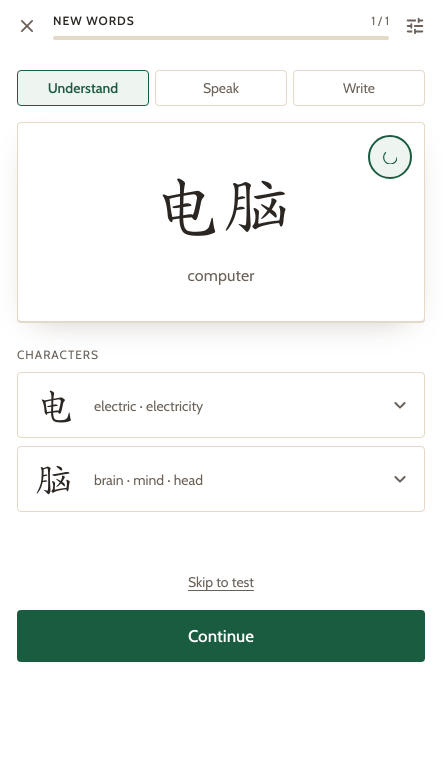
Test: NewWords — Understand › offers Try again when the parts fail to load
Click the button "电 electric · electricity": (149, 406) [30,385,412,425]
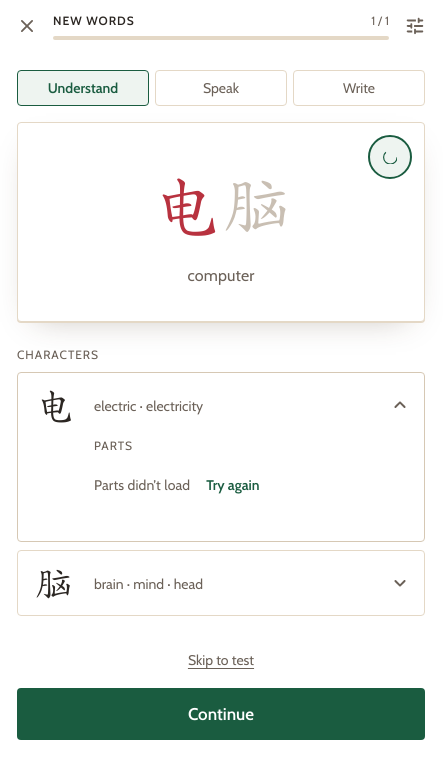
Expected: the text "Parts didn’t load" is shown, [94,474,190,496]
Click the button "Try again": (233, 485) [202,463,264,507]
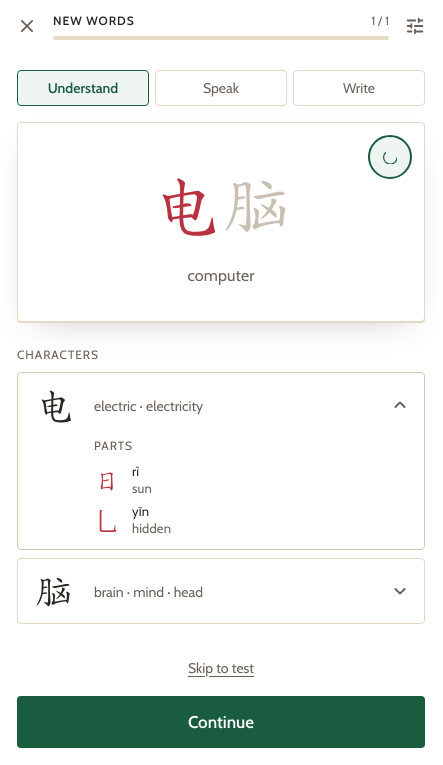
Expected: the text "日" is shown, [94,467,124,493]
